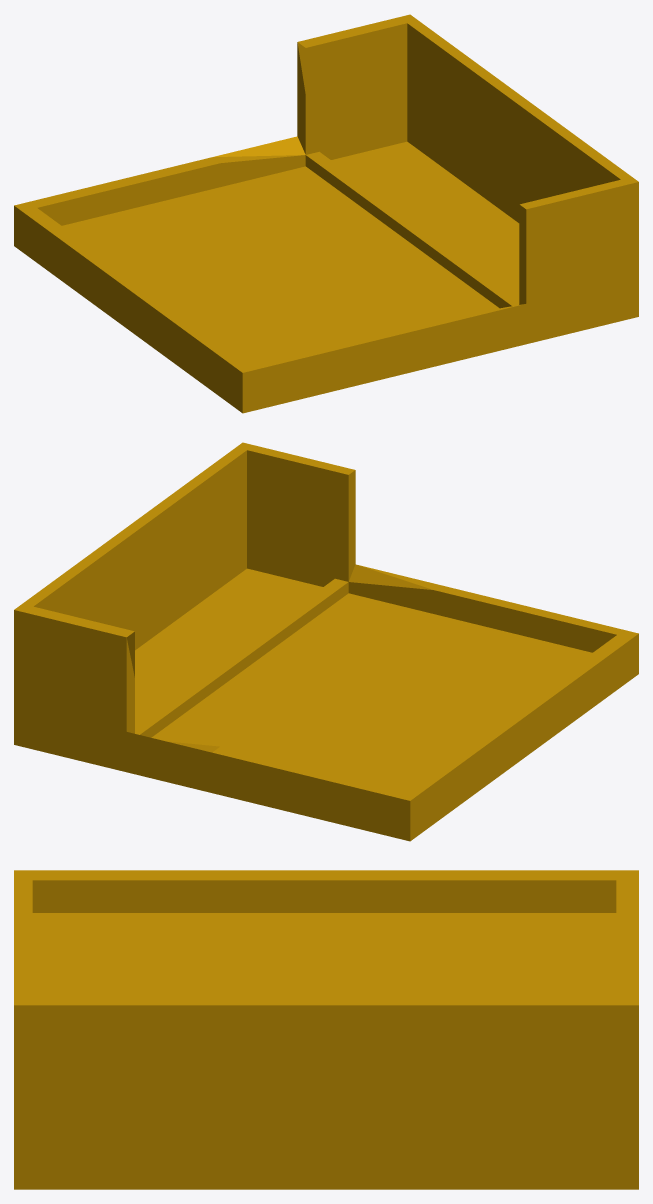
File: level1.obj
3 views of the same model, one above another, from view 1: azimuth 30°, elevation 25°; view 2: azimuth 150°, elevation 25°; view 3: azimuth 270°, elevation 25° (orthographic). The views are drawn at different scales.
Visible parts, largest first — view 1: Cube; view 2: Cube; view 3: Cube.
Boxes of the visible parts, x1=… form: Cube: x1=14, y1=14, x2=638, y2=413; Cube: x1=14, y1=442, x2=638, y2=841; Cube: x1=14, y1=870, x2=638, y2=1189.
Size of the model in its own units: 2500 by 813 by 2500.
